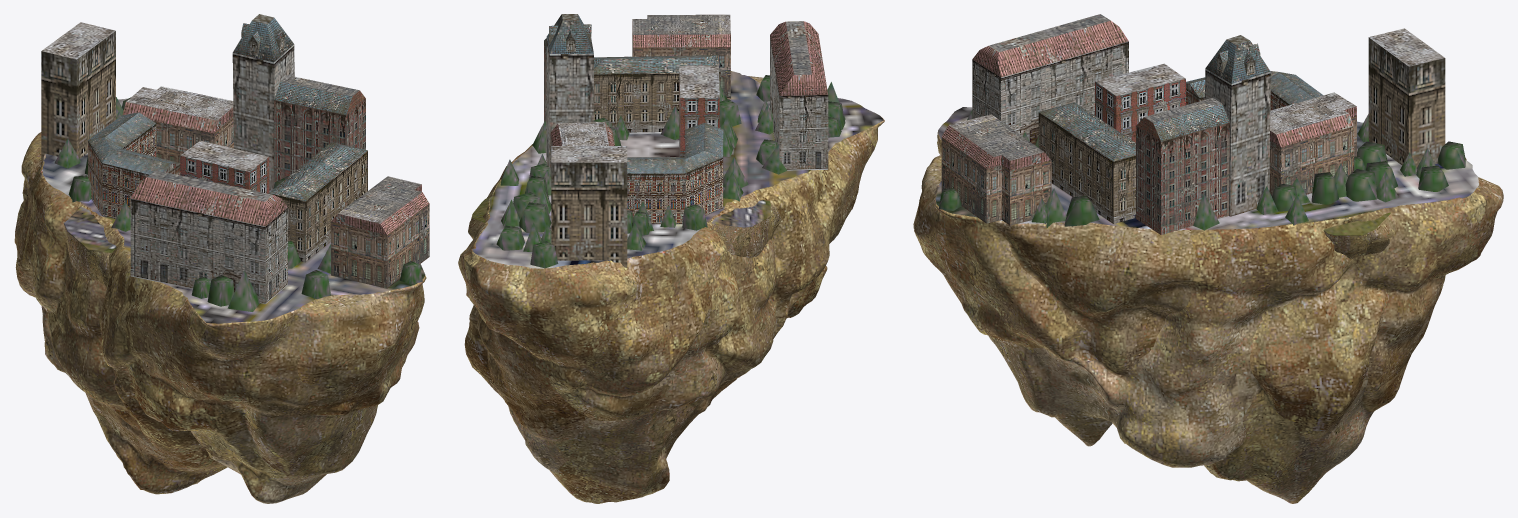
The model's file is sm0680_floatingisland01_02.fbx.
3 views of the same model, side by side, from view 1: azimuth 30°, elevation 25°; view 2: azimuth 150°, elevation 25°; view 3: azimuth 270°, elevation 25° (orthographic). The views are drawn at different scales.
Visible parts, largest first — view 1: LOD_1_Group_0_Sub_2__sm0703_land_A_Mat, LOD_1_Group_0_Sub_4__sm0680_floatingisland_B_Mat, LOD_1_Group_0_Sub_3__sm0680_floatingisland_A_Mat, LOD_1_Group_0_Sub_1__sm0680_floatingisland_C_Mat; view 2: LOD_1_Group_0_Sub_2__sm0703_land_A_Mat, LOD_1_Group_0_Sub_4__sm0680_floatingisland_B_Mat, LOD_1_Group_0_Sub_3__sm0680_floatingisland_A_Mat, LOD_1_Group_0_Sub_1__sm0680_floatingisland_C_Mat; view 3: LOD_1_Group_0_Sub_2__sm0703_land_A_Mat, LOD_1_Group_0_Sub_4__sm0680_floatingisland_B_Mat, LOD_1_Group_0_Sub_3__sm0680_floatingisland_A_Mat, LOD_1_Group_0_Sub_1__sm0680_floatingisland_C_Mat.
Boxes of the visible parts, x1,y1,x2,y2 form: LOD_1_Group_0_Sub_2__sm0703_land_A_Mat: (14, 132, 426, 503); LOD_1_Group_0_Sub_4__sm0680_floatingisland_B_Mat: (41, 14, 429, 303); LOD_1_Group_0_Sub_3__sm0680_floatingisland_A_Mat: (42, 22, 429, 311); LOD_1_Group_0_Sub_1__sm0680_floatingisland_C_Mat: (42, 98, 425, 323); LOD_1_Group_0_Sub_2__sm0703_land_A_Mat: (458, 76, 884, 503); LOD_1_Group_0_Sub_4__sm0680_floatingisland_B_Mat: (544, 14, 828, 267); LOD_1_Group_0_Sub_3__sm0680_floatingisland_A_Mat: (496, 14, 845, 269); LOD_1_Group_0_Sub_1__sm0680_floatingisland_C_Mat: (472, 71, 883, 268); LOD_1_Group_0_Sub_2__sm0703_land_A_Mat: (913, 130, 1503, 503); LOD_1_Group_0_Sub_4__sm0680_floatingisland_B_Mat: (941, 21, 1445, 223); LOD_1_Group_0_Sub_3__sm0680_floatingisland_A_Mat: (939, 14, 1465, 234); LOD_1_Group_0_Sub_1__sm0680_floatingisland_C_Mat: (935, 107, 1478, 235).
Bounding box in the file's own units: 8021 × 12522 × 13812.
